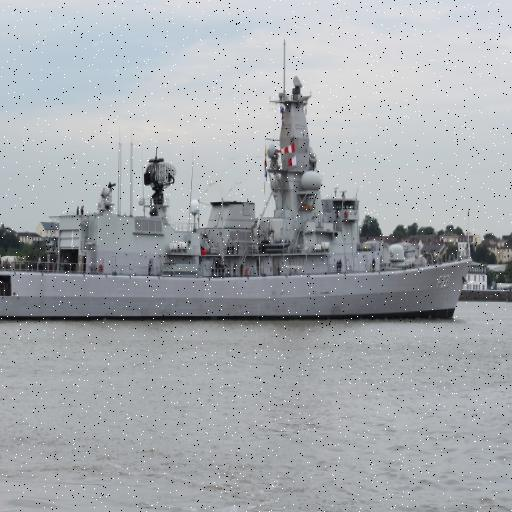Fragata: (1, 42, 475, 320)
